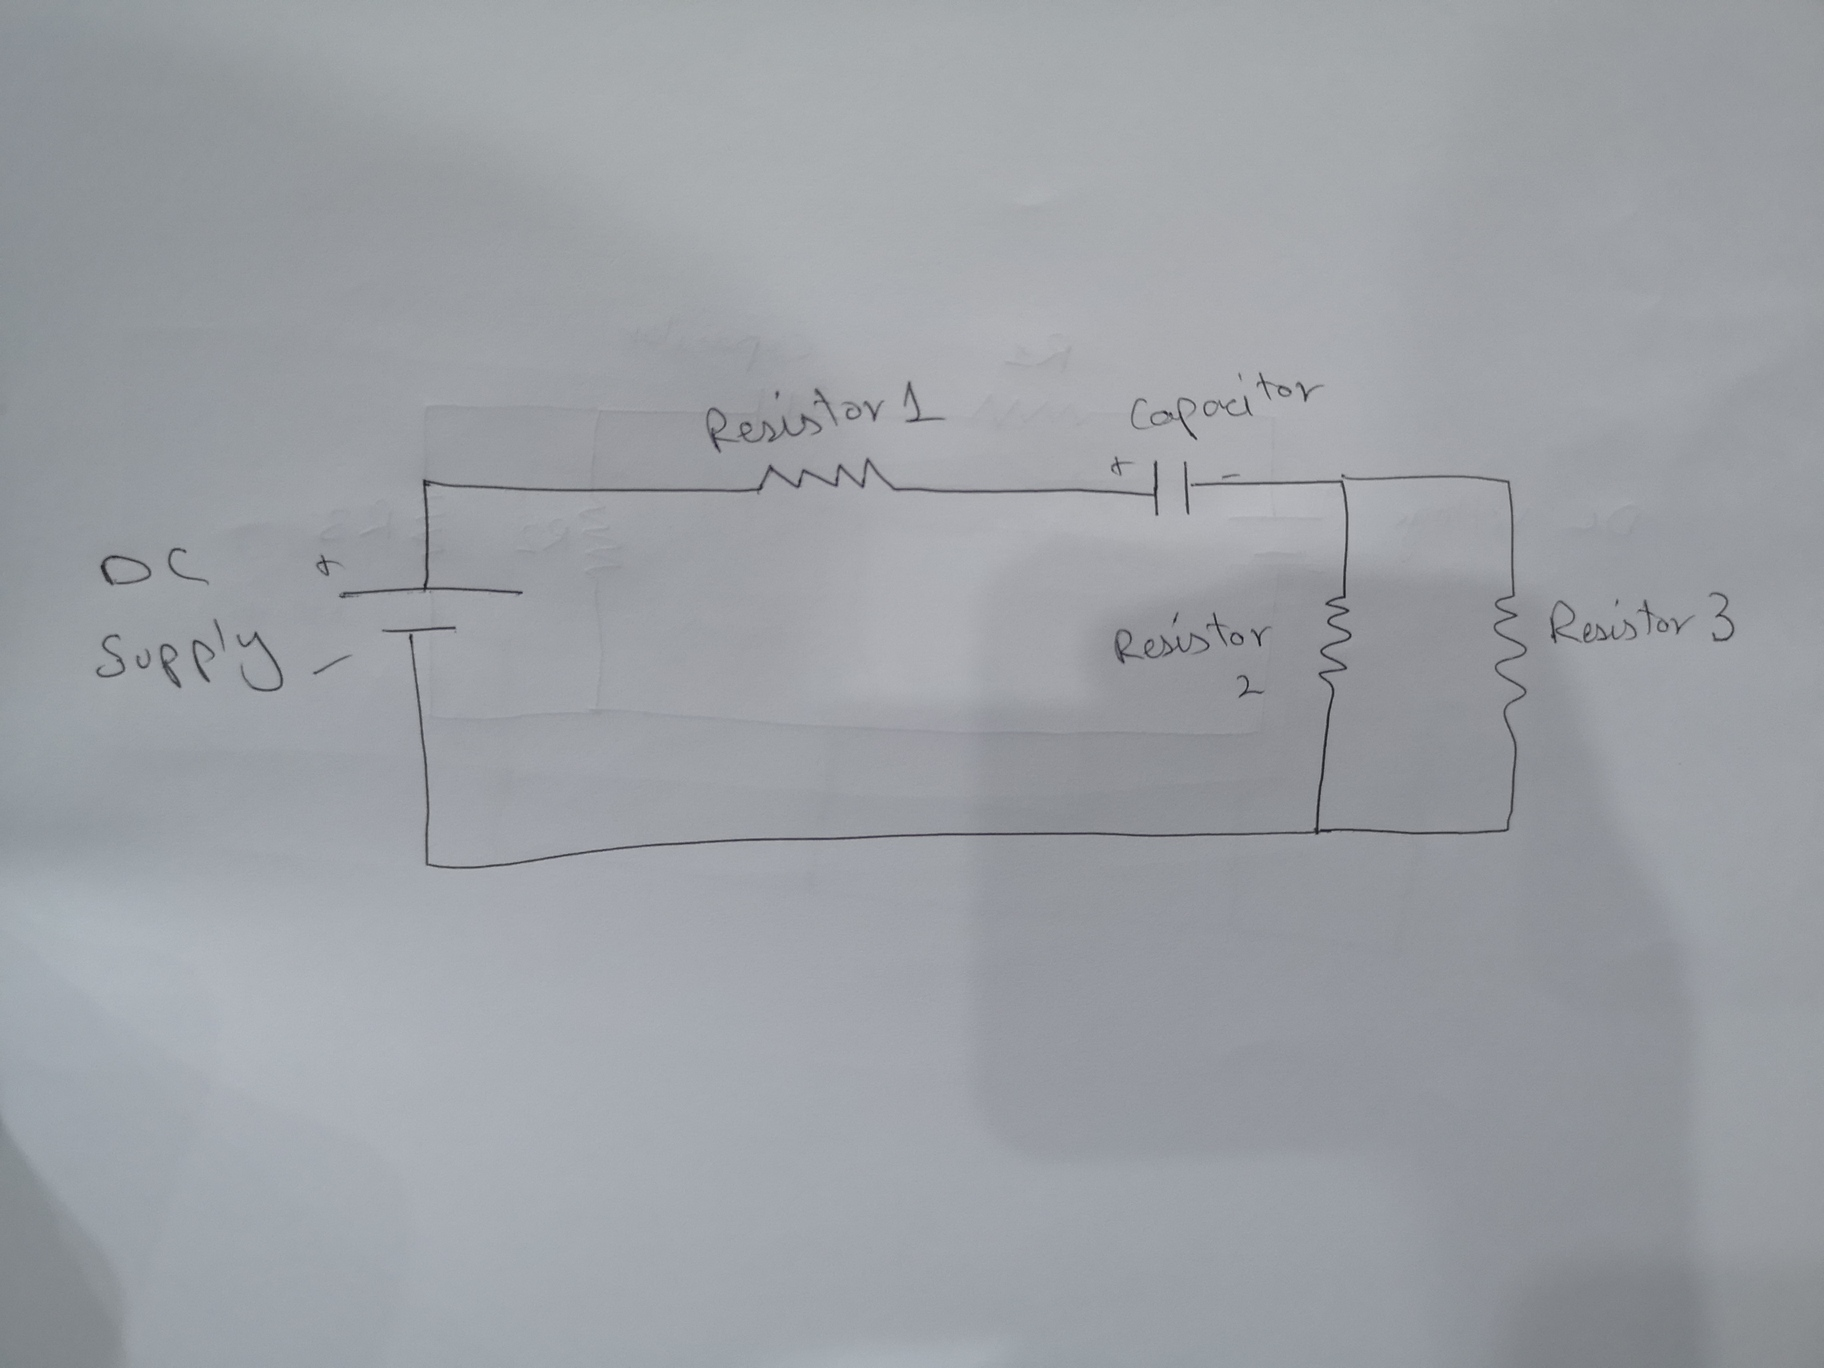capacitor.polarized: (1104, 451, 1247, 522)
junction: (1494, 815, 1520, 842), (1304, 818, 1330, 844), (417, 851, 441, 875), (414, 471, 439, 494), (1497, 473, 1520, 494), (1331, 468, 1350, 493)
resistor: (745, 453, 903, 504), (1488, 576, 1530, 729), (1313, 586, 1354, 695)
text: (88, 612, 296, 698), (1125, 365, 1329, 447), (698, 384, 926, 450), (1543, 591, 1738, 650), (1109, 606, 1275, 670), (86, 540, 233, 593), (1231, 671, 1262, 704)
voltage.dc: (333, 581, 530, 647)
